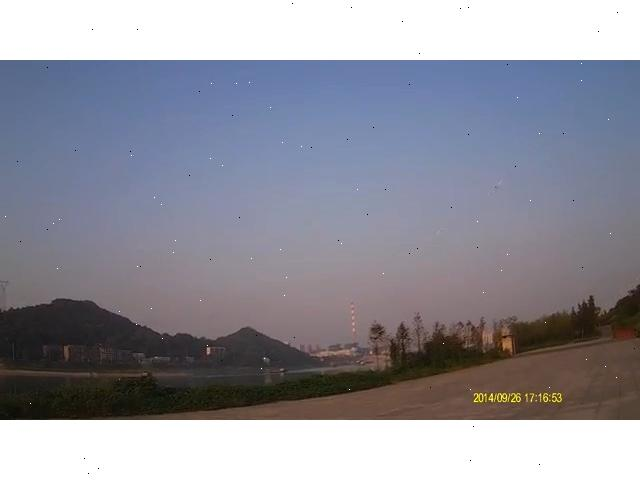Anti-Drone: (480, 172, 508, 205)
